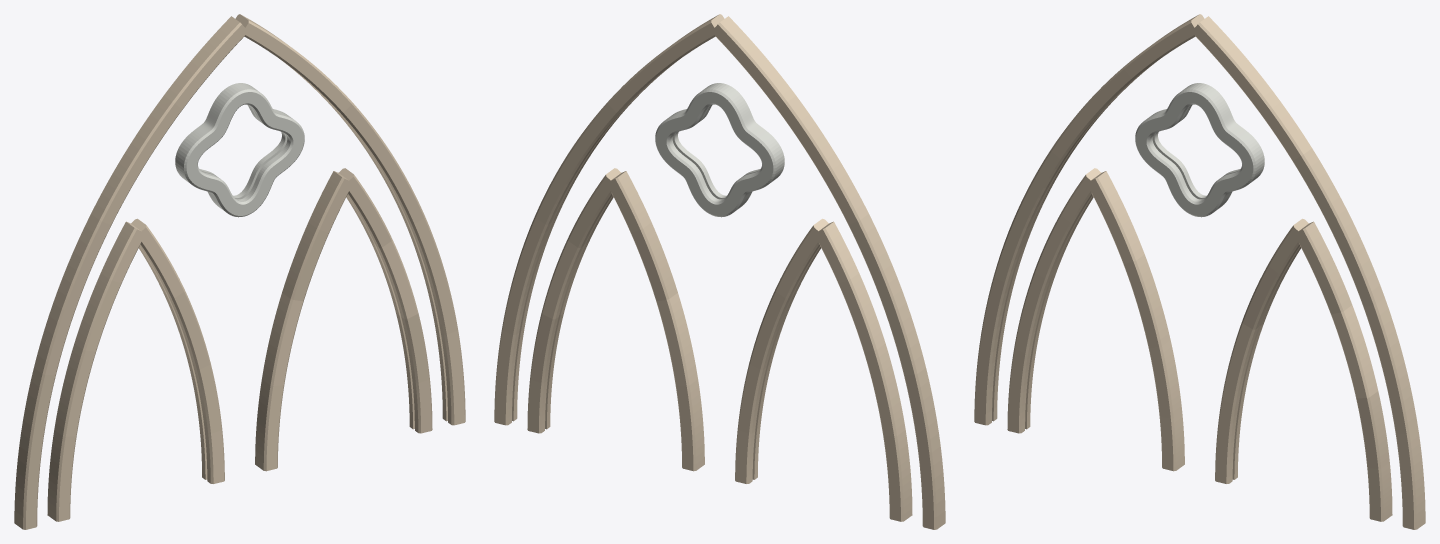
The model's file is R49_NEUTRAL_TRACERY_WINDOW_HEAD.glb.
3 views of the same model, side by side, from view 1: azimuth 30°, elevation 25°; view 2: azimuth 150°, elevation 25°; view 3: azimuth 330°, elevation 25° (orthographic).
Parts seen in each view (by area): view 1: R46_OUTER_CROWN_KEYSTONE_EXPERIMENTAL, R46_OUTER_left_COURSE_02, R46_OUTER_left_COURSE_01, R46_OUTER_left_COURSE_03, R46_LEFT_LANCET_CROWN_KEYSTONE_EXPERIMENTAL, R46_RIGHT_LANCET_CROWN_KEYSTONE_EXPERIMENTAL, R46_OUTER_right_COURSE_02, R46_OUTER_right_COURSE_03, R46_OUTER_right_COURSE_04, R46_LEFT_LANCET_left_COURSE_02, R46_RIGHT_LANCET_left_COURSE_02, R46_LEFT_LANCET_left_COURSE_01 (+17 smaller); view 2: R46_OUTER_CROWN_KEYSTONE_EXPERIMENTAL, R46_OUTER_left_COURSE_02, R46_OUTER_left_COURSE_01, R46_OUTER_left_COURSE_03, R46_LEFT_LANCET_CROWN_KEYSTONE_EXPERIMENTAL, R46_RIGHT_LANCET_CROWN_KEYSTONE_EXPERIMENTAL, R46_OUTER_right_COURSE_02, R46_OUTER_right_COURSE_03, R46_OUTER_right_COURSE_04, R46_LEFT_LANCET_left_COURSE_02, R46_RIGHT_LANCET_left_COURSE_02, R46_LEFT_LANCET_left_COURSE_01 (+17 smaller); view 3: R46_OUTER_CROWN_KEYSTONE_EXPERIMENTAL, R46_OUTER_right_COURSE_02, R46_OUTER_left_COURSE_01, R46_OUTER_right_COURSE_03, R46_RIGHT_LANCET_CROWN_KEYSTONE_EXPERIMENTAL, R46_LEFT_LANCET_CROWN_KEYSTONE_EXPERIMENTAL, R46_OUTER_left_COURSE_02, R46_OUTER_right_COURSE_04, R46_LEFT_LANCET_right_COURSE_02, R46_RIGHT_LANCET_right_COURSE_02, R46_OUTER_left_COURSE_03, R46_LEFT_LANCET_left_COURSE_01 (+17 smaller).
Part boxes in pixels (box(x1,y1,x2,y2)): R46_OUTER_CROWN_KEYSTONE_EXPERIMENTAL: box(164, 14, 351, 113); R46_OUTER_left_COURSE_02: box(34, 214, 111, 375); R46_OUTER_left_COURSE_01: box(14, 368, 55, 529); R46_OUTER_left_COURSE_03: box(91, 95, 182, 224); R46_LEFT_LANCET_CROWN_KEYSTONE_EXPERIMENTAL: box(101, 218, 184, 298); R46_RIGHT_LANCET_CROWN_KEYSTONE_EXPERIMENTAL: box(308, 168, 392, 247); R46_OUTER_right_COURSE_02: box(332, 102, 424, 224); R46_OUTER_right_COURSE_03: box(403, 216, 457, 334); R46_OUTER_right_COURSE_04: box(435, 329, 465, 425); R46_LEFT_LANCET_left_COURSE_02: box(54, 343, 95, 436); R46_RIGHT_LANCET_left_COURSE_02: box(262, 293, 303, 385); R46_LEFT_LANCET_left_COURSE_01: box(47, 430, 76, 521); R46_OUTER_CROWN_KEYSTONE_EXPERIMENTAL: box(608, 14, 795, 113); R46_OUTER_left_COURSE_02: box(848, 214, 925, 375); R46_OUTER_left_COURSE_01: box(904, 368, 945, 529); R46_OUTER_left_COURSE_03: box(777, 95, 868, 224); R46_LEFT_LANCET_CROWN_KEYSTONE_EXPERIMENTAL: box(775, 218, 858, 298); R46_RIGHT_LANCET_CROWN_KEYSTONE_EXPERIMENTAL: box(567, 168, 651, 247); R46_OUTER_right_COURSE_02: box(535, 102, 627, 224); R46_OUTER_right_COURSE_03: box(502, 216, 556, 334); R46_OUTER_right_COURSE_04: box(494, 329, 524, 425); R46_LEFT_LANCET_left_COURSE_02: box(864, 343, 905, 436); R46_RIGHT_LANCET_left_COURSE_02: box(656, 293, 697, 385); R46_LEFT_LANCET_left_COURSE_01: box(883, 430, 912, 521); R46_OUTER_CROWN_KEYSTONE_EXPERIMENTAL: box(1124, 14, 1311, 160); R46_OUTER_right_COURSE_02: box(1292, 148, 1384, 306); R46_OUTER_left_COURSE_01: box(974, 276, 1015, 425); R46_OUTER_right_COURSE_03: box(1363, 298, 1417, 433); R46_RIGHT_LANCET_CROWN_KEYSTONE_EXPERIMENTAL: box(1268, 218, 1352, 314); R46_LEFT_LANCET_CROWN_KEYSTONE_EXPERIMENTAL: box(1061, 168, 1144, 263); R46_OUTER_left_COURSE_02: box(994, 150, 1071, 282); R46_OUTER_right_COURSE_04: box(1395, 427, 1425, 529); R46_LEFT_LANCET_right_COURSE_02: box(1123, 254, 1170, 347); R46_RIGHT_LANCET_right_COURSE_02: box(1331, 305, 1378, 398); R46_OUTER_left_COURSE_03: box(1051, 67, 1141, 159); R46_LEFT_LANCET_left_COURSE_01: box(1007, 347, 1036, 433).
Bounding box in the file's own units: 2 × 1.97 × 0.084.
